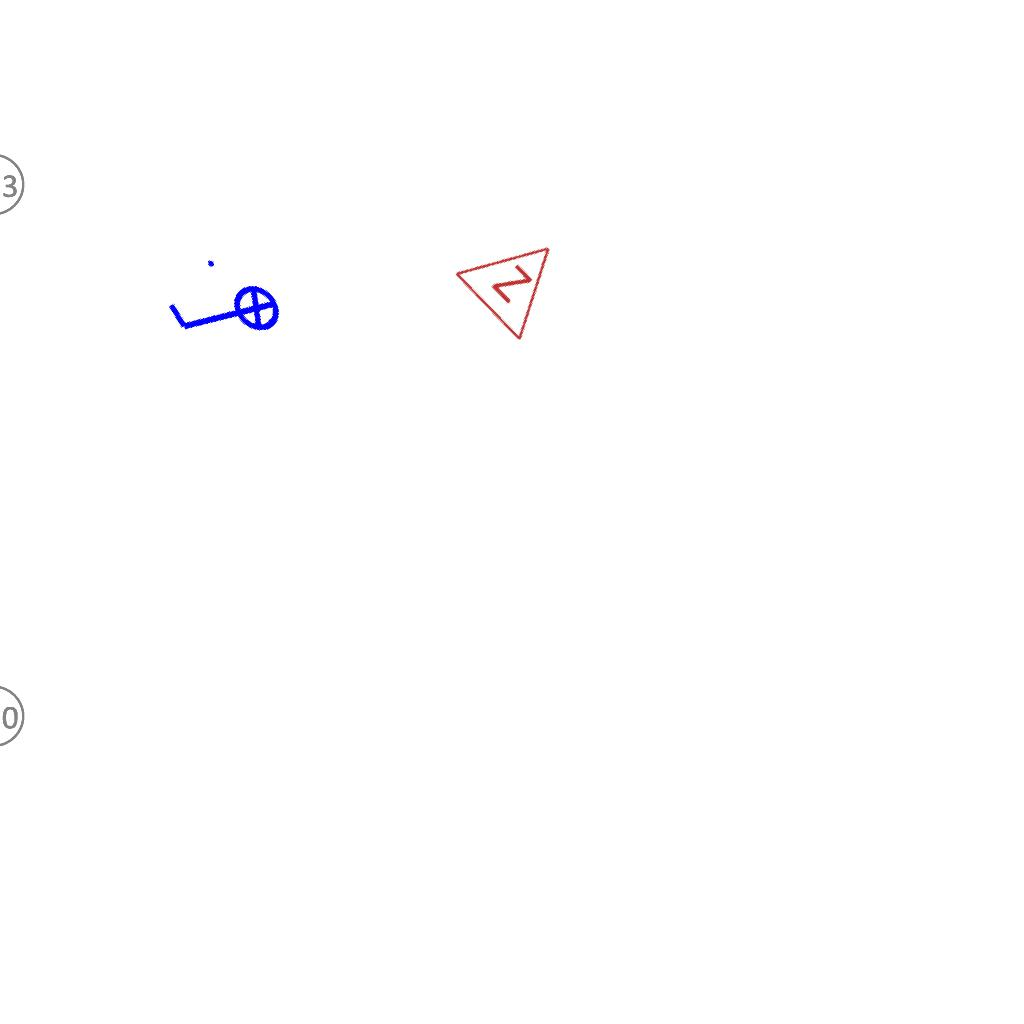Ausschalter_beleuchtet: (152, 241, 300, 389)
Zimmersignalleuchte: (446, 207, 588, 347)
